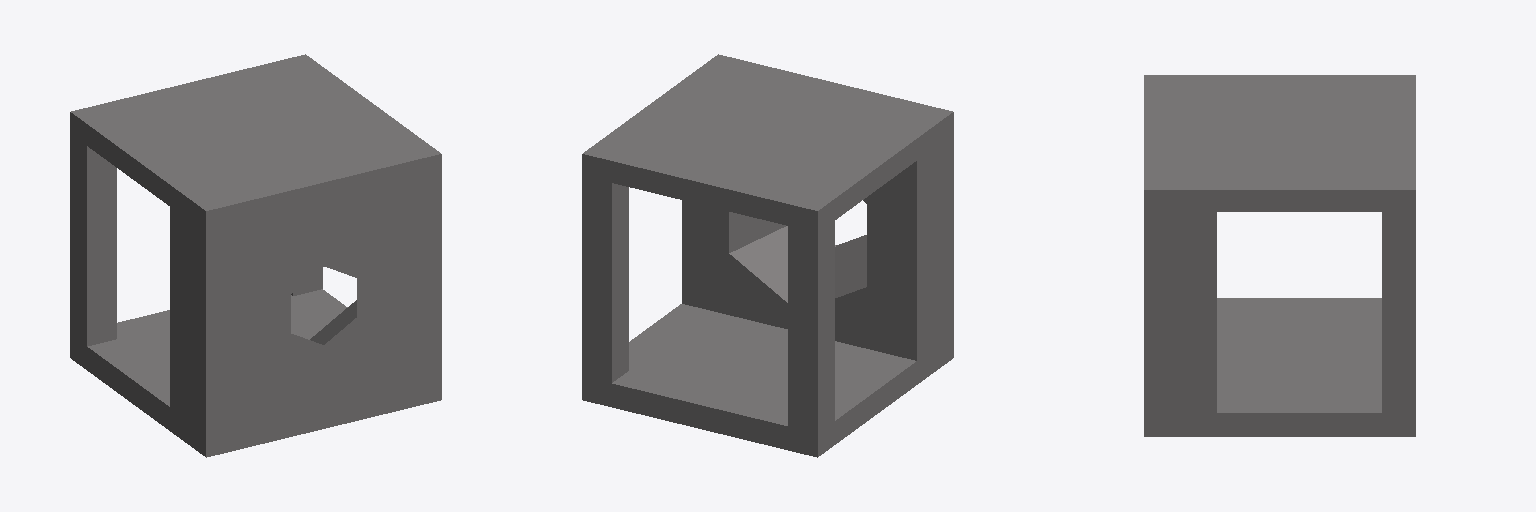
The model's file is murderhole.obj.
The picture shows the model from 3 angles: view 1: azimuth 30°, elevation 25°; view 2: azimuth 150°, elevation 25°; view 3: azimuth 270°, elevation 25°; orthographic projection.
Visible parts, largest first — view 1: Mesh1 Group1 Model; view 2: Mesh1 Group1 Model; view 3: Mesh1 Group1 Model.
Part boxes in pixels (x1,y1,x2,y2): Mesh1 Group1 Model: (70, 54, 441, 457); Mesh1 Group1 Model: (582, 54, 953, 457); Mesh1 Group1 Model: (1144, 75, 1415, 436).
Size of the model in its own units: 1 by 1 by 1.